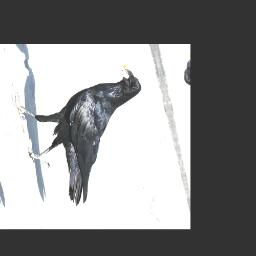Crow: (10, 63, 166, 212)
